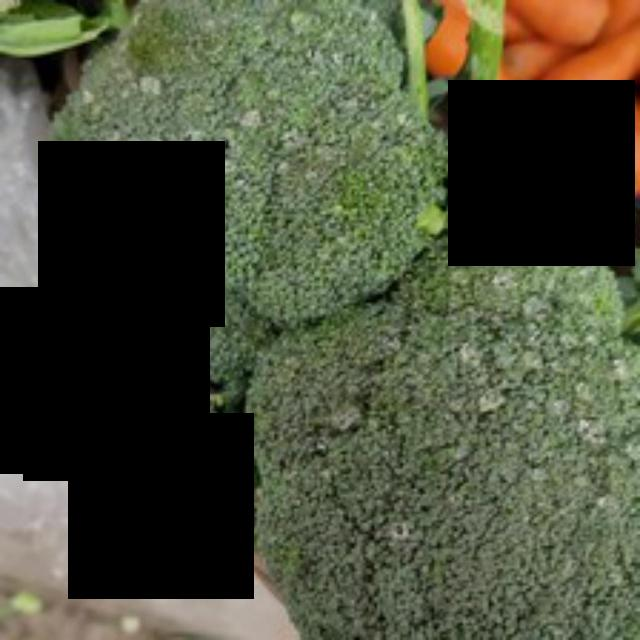broccoli: (228, 211, 637, 637)
